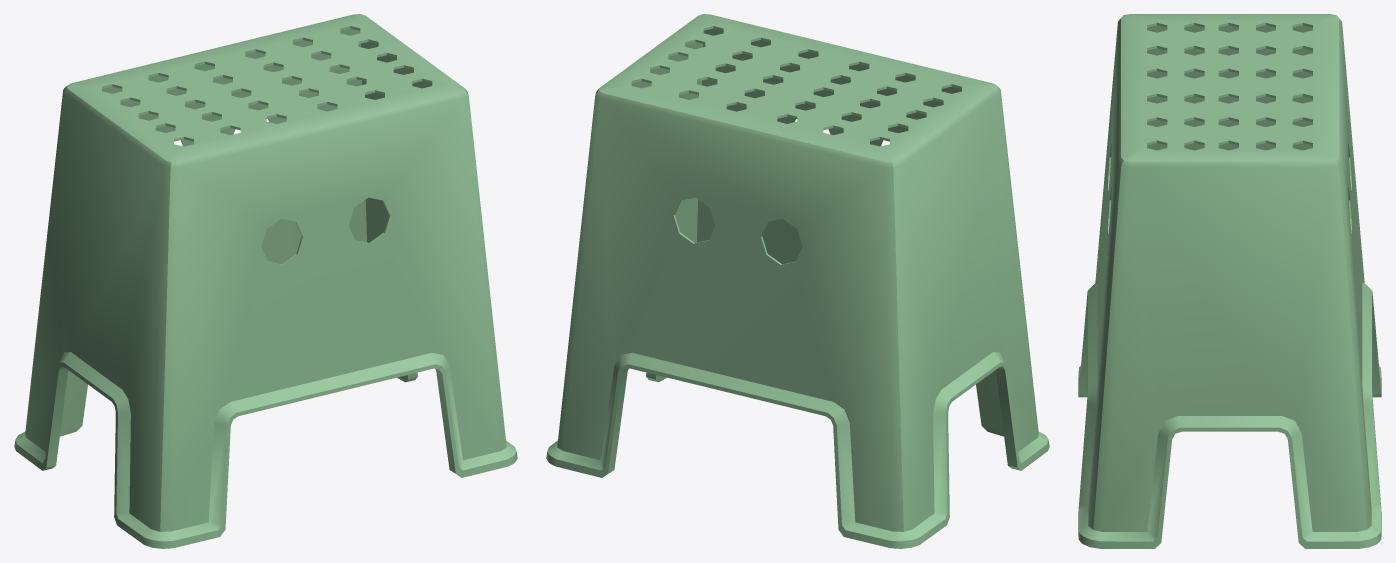
Rendered from IKEAD001.FBX.
The picture shows the model from 3 angles, left to right: view 1: azimuth 30°, elevation 25°; view 2: azimuth 150°, elevation 25°; view 3: azimuth 270°, elevation 25°; orthographic projection.
Parts seen in each view (by area): view 1: IKEAD001; view 2: IKEAD001; view 3: IKEAD001.
Boxes of the visible parts, left/top/right/bottom form: IKEAD001: left=14, top=14, right=517, bottom=548; IKEAD001: left=546, top=14, right=1049, bottom=548; IKEAD001: left=1078, top=14, right=1381, bottom=548.
Size of the model in its own units: 33 by 23 by 31.
